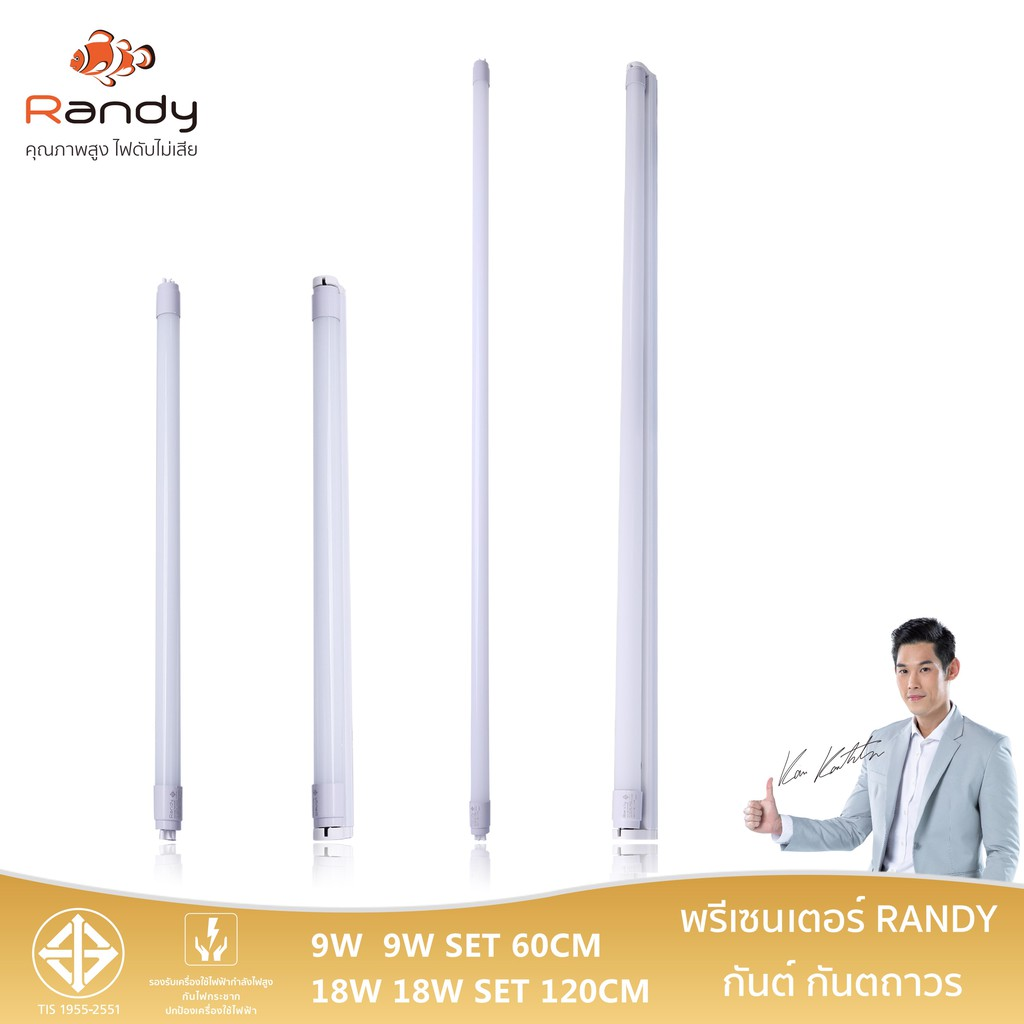Light_bulb: (605, 45, 670, 855), (302, 276, 358, 855), (463, 47, 498, 856), (146, 267, 192, 858)
